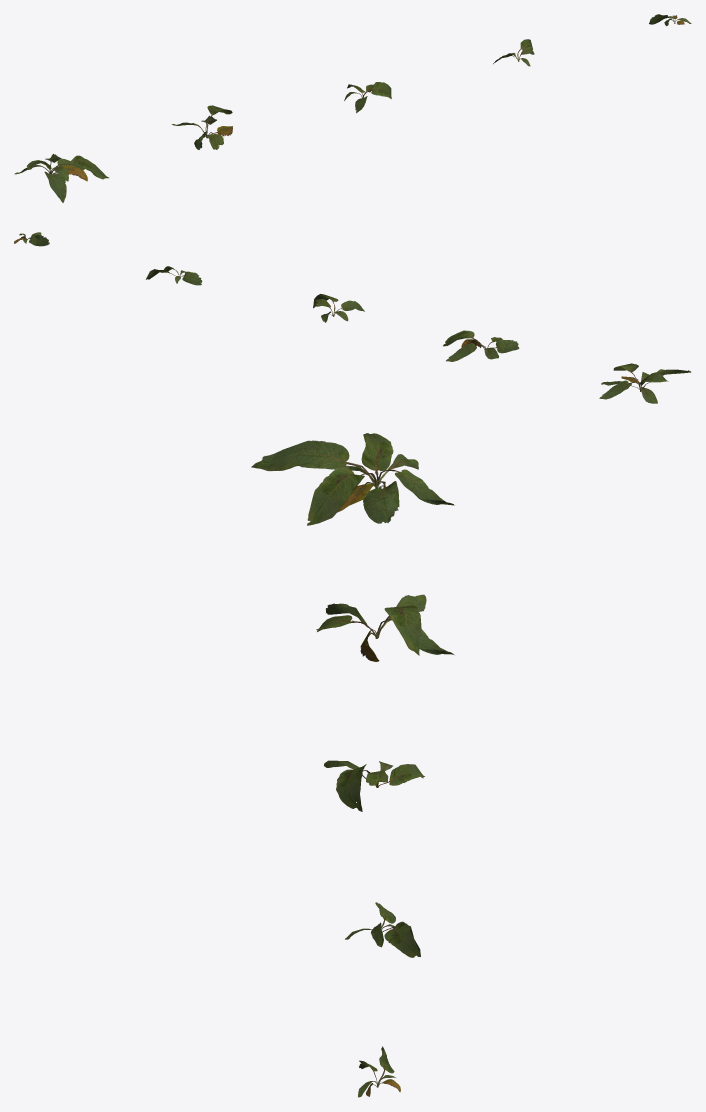
The model's file is near.glb.
3 renders of one model, top to bottom at view 1: azimuth 30°, elevation 25°; view 2: azimuth 150°, elevation 25°; view 3: azimuth 270°, elevation 25°, orthographic. The views are drawn at different scales.
Visible parts, largest first — view 1: weed_plant_02_a_LOD0, weed_plant_02_c_LOD0; view 2: weed_plant_02_a_LOD0, weed_plant_02_c_LOD0; view 3: weed_plant_02_a_LOD0, weed_plant_02_c_LOD0.
Boxes of the visible parts, <box> form: weed_plant_02_a_LOD0: <box>14,14,691,202</box>; weed_plant_02_c_LOD0: <box>344,82,391,113</box>; weed_plant_02_a_LOD0: <box>14,232,691,403</box>; weed_plant_02_c_LOD0: <box>313,294,364,322</box>; weed_plant_02_a_LOD0: <box>251,433,454,1097</box>; weed_plant_02_c_LOD0: <box>324,760,424,811</box>.
Size of the model in its own units: 2.13 by 0.075 by 0.2908.
Materials: 1 (1 with a texture image).
